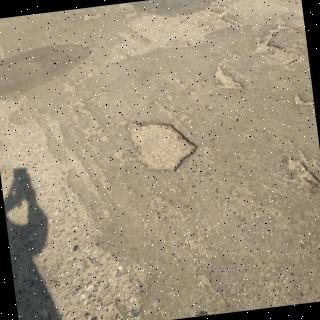pothole: (123, 122, 198, 172)
